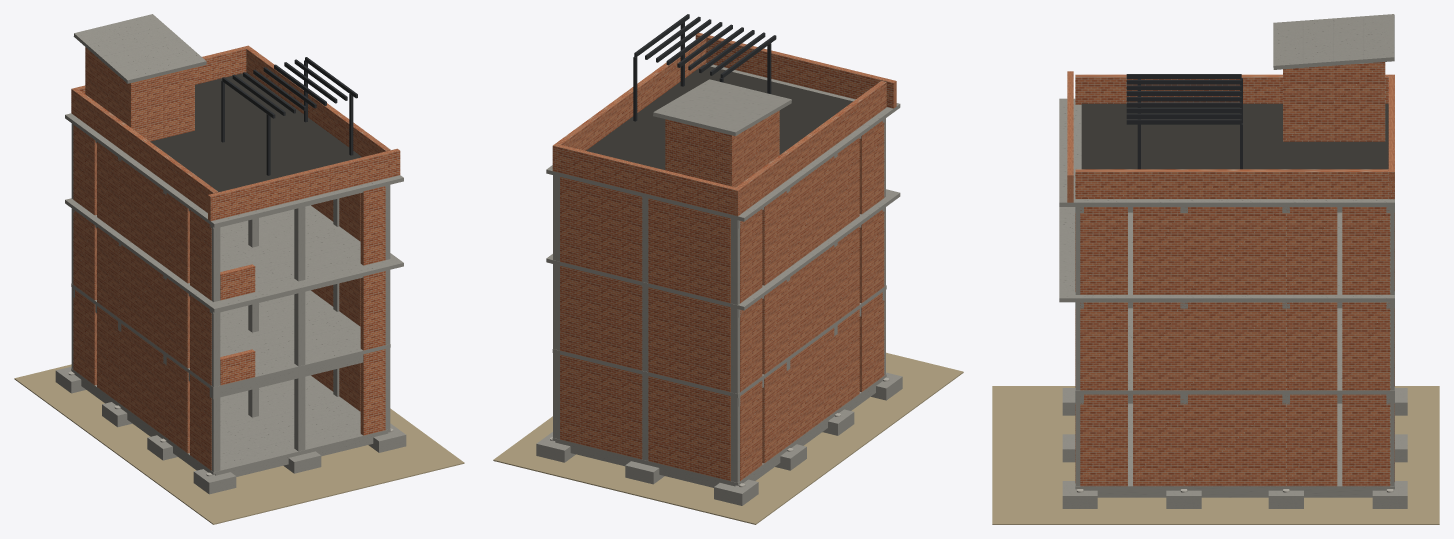
File: phase-4.glb
3 views of the same model, side by side, from view 1: azimuth 30°, elevation 25°; view 2: azimuth 150°, elevation 25°; view 3: azimuth 270°, elevation 25° (orthographic). The views are drawn at different scales.
Size of the model in its own units: 10.2 by 13.63 by 14.
Materials: 6 (2 with a texture image).
